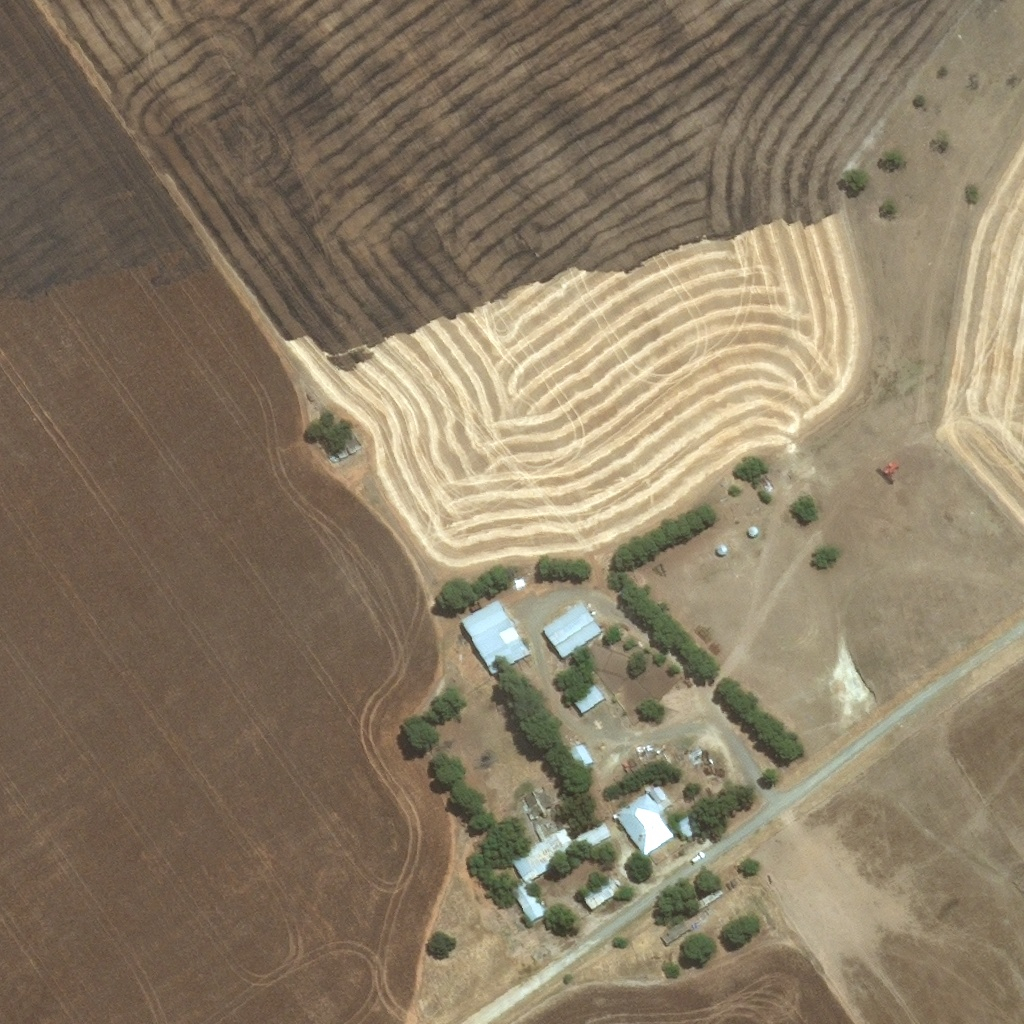0 no-damage: (462, 599, 531, 675), (613, 793, 671, 858), (507, 832, 574, 884), (541, 603, 601, 659), (506, 881, 544, 924), (579, 881, 617, 911), (570, 683, 604, 714), (575, 823, 611, 851), (657, 921, 691, 948), (673, 814, 701, 842), (690, 887, 721, 912), (567, 744, 592, 769), (647, 786, 665, 805), (746, 527, 757, 537), (720, 545, 730, 554)
2 major-damage: (325, 433, 360, 464)
3 destroyed: (520, 792, 543, 823)
4 un-classified: (694, 562, 706, 573), (682, 568, 693, 579), (704, 551, 715, 562), (745, 675, 755, 686)
